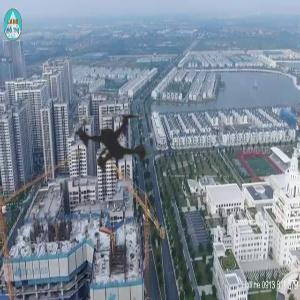drone: (10, 34, 218, 242)
